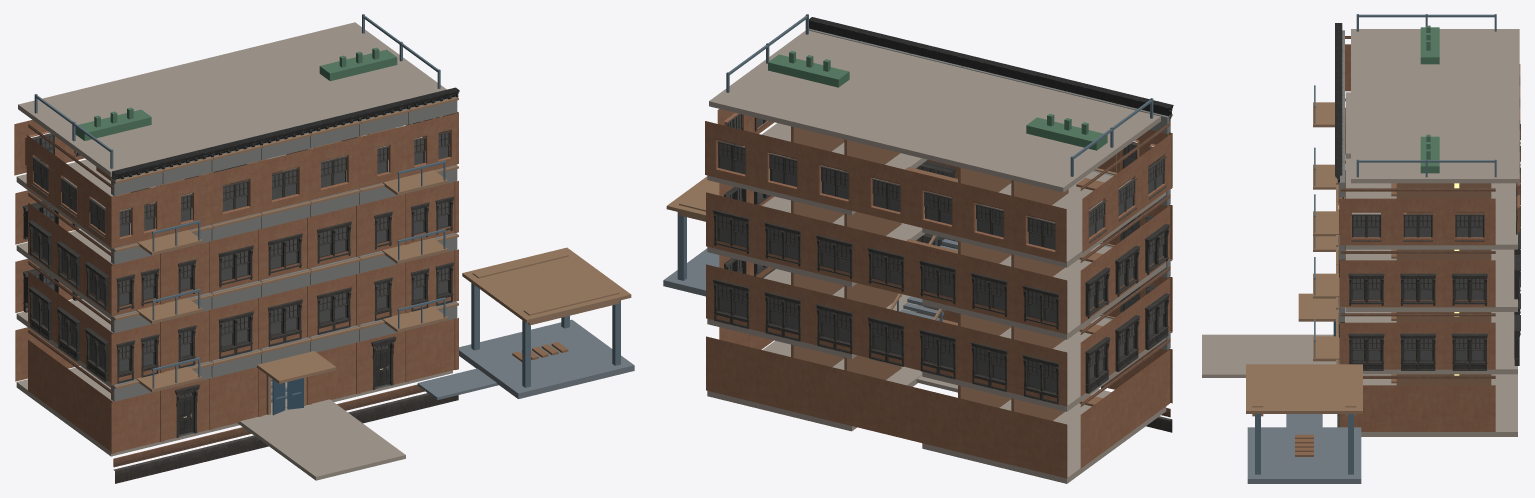
Rendered from G4E7BZ_BUILT_ARCHITECTURE_ART_ONLY.glb.
3 renders of one model, left to right at view 1: azimuth 30°, elevation 25°; view 2: azimuth 150°, elevation 25°; view 3: azimuth 270°, elevation 25°, orthographic. The views are drawn at different scales.
Parts seen in each view (by area): view 1: Real accessible roof floor, Real city pedestrian threshold, Modest supported platform / stop, Return elevation real window wall / CC0 wall_window_centere. (×8), Ground solid masonry wall / CC0 wall_standard_standard_01.00 (×3), Exterior inhabited floor 3 masonry / CC0 wall_window_centere (×3), Exterior inhabited floor 3 masonry / CC0 wall_window_center. (×3), Sustainable transit canopy shade, Exterior inhabited floor 2 masonry / CC0 wall_window_center. (×3), Exterior inhabited floor 2 masonry / CC0 wall_window_centere (×3), Return elevation source glass window / CC0 window_centered_. (×5), Exterior inhabited floor 1 masonry / CC0 wall_window_center. (×3) (+65 smaller); view 2: Real accessible roof floor, Rear living window wall / CC0 wall_window_centered_large_03. (×6), Rear living window wall / CC0 wall_window_centered_large_02. (×6), Rear living window wall / CC0 wall_window_centered_large_01. (×6), Return elevation real window wall / CC0 wall_window_centere. (×8), Return elevation source glass window / CC0 window_centered_. (×6), Return elevation matching stone wall / CC0 wall_standard_st. (×2), Inhabited complete supported floor not opaque mega-box.006, Rear service wall / CC0 wall_standard_standard_01.006, Rear service wall / CC0 wall_standard_standard_01.001, Rear service wall / CC0 wall_standard_standard_01.002, Rear service wall / CC0 wall_standard_standard_01 (+65 smaller); view 3: Real accessible roof floor, Return elevation real window wall / CC0 wall_window_centere. (×8), Return elevation source glass window / CC0 window_centered_. (×8), Modest supported platform / stop, Sustainable transit canopy shade, Real city pedestrian threshold, Return elevation matching stone wall / CC0 wall_standard_st. (×2), Inhabited complete supported floor not opaque mega-box.007, Inhabited complete supported floor not opaque mega-box.005, Return elevation matching stone wall / CC0 wall_standard_sta, Inhabited complete supported floor not opaque mega-box.001, Inhabited complete supported floor not opaque mega-box.003 (+21 smaller).
Part boxes in pixels (x1,y1,x2,y2): Real accessible roof floor: (18, 22, 446, 176); Real city pedestrian threshold: (237, 399, 405, 480); Modest supported platform / stop: (459, 319, 634, 398); Return elevation real window wall / CC0 wall_window_centere. (×8): (26, 135, 112, 363); Ground solid masonry wall / CC0 wall_standard_standard_01.00 (×3): (113, 342, 357, 452); Exterior inhabited floor 3 masonry / CC0 wall_window_centere (×3): (310, 113, 457, 200); Exterior inhabited floor 3 masonry / CC0 wall_window_center. (×3): (114, 149, 310, 248); Sustainable transit canopy shade: (462, 247, 631, 323); Exterior inhabited floor 2 masonry / CC0 wall_window_center. (×3): (113, 217, 308, 315); Exterior inhabited floor 2 masonry / CC0 wall_window_centere (×3): (310, 181, 456, 267); Return elevation source glass window / CC0 window_centered_. (×5): (28, 220, 108, 361); Exterior inhabited floor 1 masonry / CC0 wall_window_center. (×3): (113, 286, 308, 383); Real accessible roof floor: (709, 30, 1160, 192); Rear living window wall / CC0 wall_window_centered_large_03. (×6): (756, 133, 1066, 262); Rear living window wall / CC0 wall_window_centered_large_02. (×6): (757, 205, 1067, 334); Rear living window wall / CC0 wall_window_centered_large_01. (×6): (757, 277, 1067, 406); Return elevation real window wall / CC0 wall_window_centere. (×8): (1080, 134, 1171, 396); Return elevation source glass window / CC0 window_centered_. (×6): (1085, 178, 1170, 393); Return elevation matching stone wall / CC0 wall_standard_st. (×2): (1080, 371, 1140, 468); Inhabited complete supported floor not opaque mega-box.006: (922, 171, 1166, 267); Rear service wall / CC0 wall_standard_standard_01.006: (757, 349, 809, 415); Rear service wall / CC0 wall_standard_standard_01.001: (1015, 412, 1067, 478); Rear service wall / CC0 wall_standard_standard_01.002: (964, 399, 1015, 465); Rear service wall / CC0 wall_standard_standard_01: (706, 336, 757, 402); Real accessible roof floor: (1351, 29, 1519, 183); Return elevation real window wall / CC0 wall_window_centere. (×8): (1340, 198, 1495, 369); Return elevation source glass window / CC0 window_centered_. (×8): (1348, 214, 1487, 370); Modest supported platform / stop: (1247, 427, 1361, 483); Sustainable transit canopy shade: (1246, 364, 1362, 413); Real city pedestrian threshold: (1202, 334, 1335, 377); Return elevation matching stone wall / CC0 wall_standard_st. (×2): (1340, 385, 1443, 431); Inhabited complete supported floor not opaque mega-box.007: (1345, 183, 1517, 249); Inhabited complete supported floor not opaque mega-box.005: (1345, 249, 1517, 311); Return elevation matching stone wall / CC0 wall_standard_sta: (1444, 385, 1495, 431); Inhabited complete supported floor not opaque mega-box.001: (1361, 374, 1517, 436); Inhabited complete supported floor not opaque mega-box.003: (1345, 312, 1517, 374).
Bounding box in the file's own units: 29.02 × 18.92 × 18.53.
Materials: 14 (5 with a texture image).
